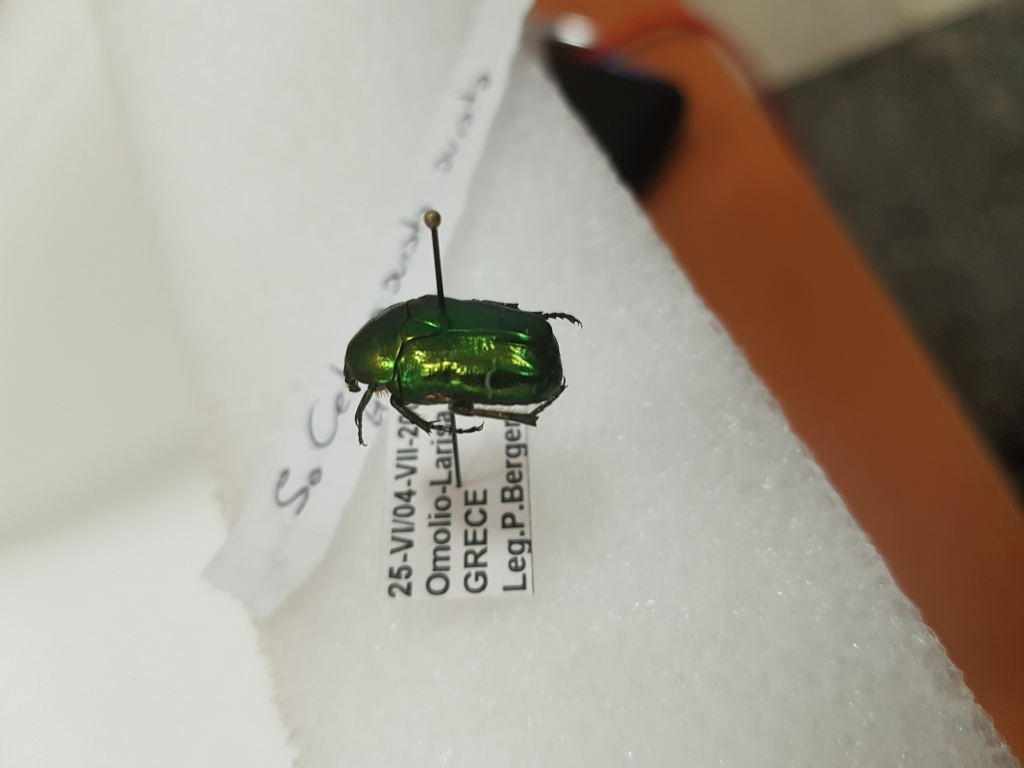Cetonia_aurata: (341, 288, 579, 450)
